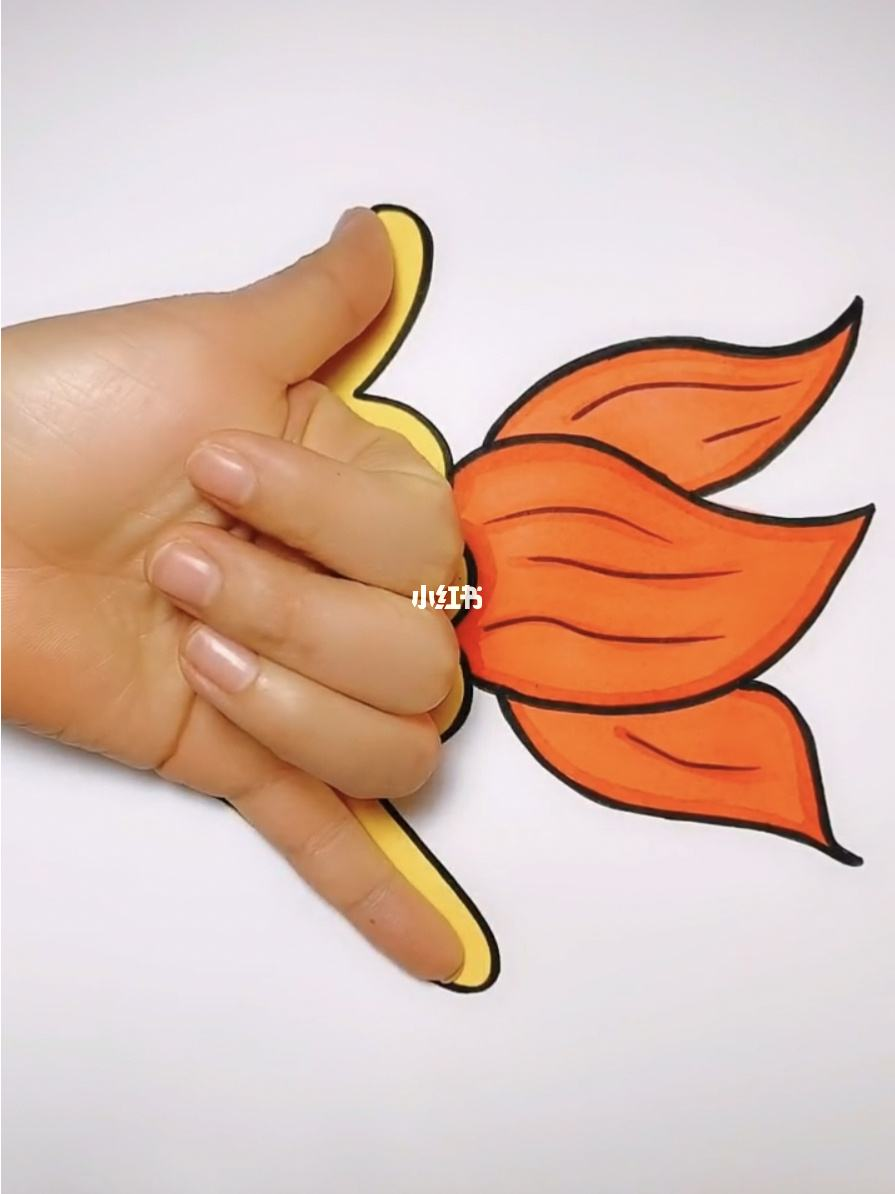clockwise: (1, 202, 485, 993)
